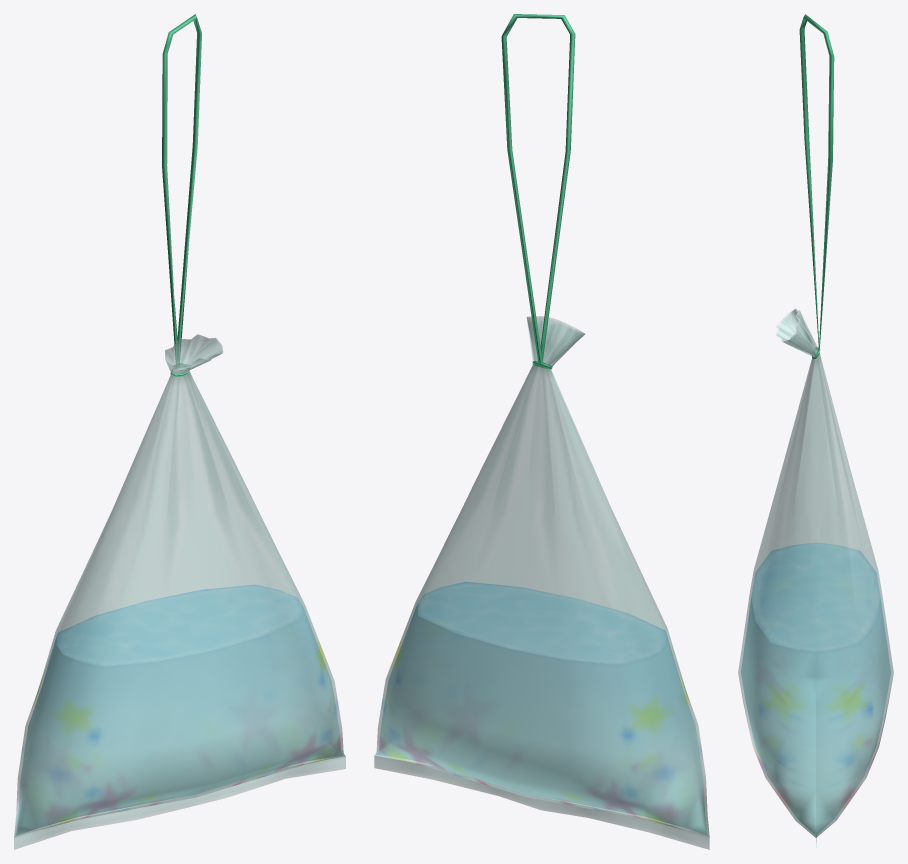
File: jsf_Goldfishbag_B.fbx
3 renders of one model, left to right at view 1: azimuth 30°, elevation 25°; view 2: azimuth 150°, elevation 25°; view 3: azimuth 270°, elevation 25°, orthographic. The views are drawn at different scales.
Visible parts, largest first — view 1: GoldfishBag_B, Water, BagStrap; view 2: GoldfishBag_B, Water, BagStrap; view 3: GoldfishBag_B, Water, BagStrap.
Part boxes in pixels (<box>): GoldfishBag_B: <box>14,334,345,849</box>; Water: <box>16,585,342,835</box>; BagStrap: <box>162,14,201,376</box>; GoldfishBag_B: <box>374,316,709,849</box>; Water: <box>377,582,707,834</box>; BagStrap: <box>501,14,575,369</box>; GoldfishBag_B: <box>738,308,893,847</box>; Water: <box>741,543,890,834</box>; BagStrap: <box>799,14,834,359</box>.
Bounding box in the file's own units: 14 × 31.71 × 5.96.
